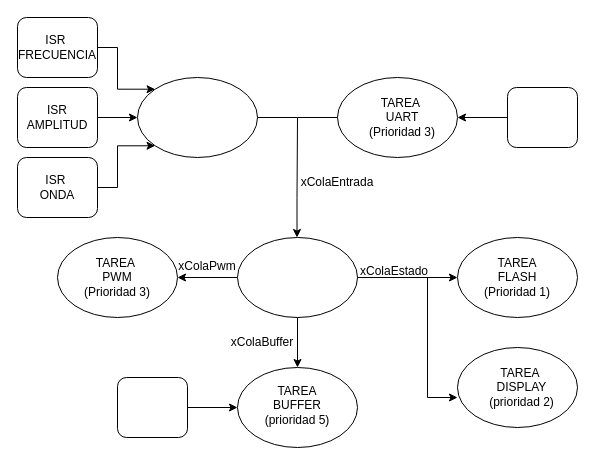
Some shapes in this 595 by 465 pixel diagram are drawn without their labels. Here are the shapes that lost their labels. From the top down, the box of each, then its label:
(136, 76, 258, 158): TAREA SINTONIA (Prioridad 3)
(506, 86, 578, 148): ISR UART
(236, 236, 358, 318): TAREA DATO (prioridad 4)
(116, 376, 188, 438): ISR DMA
